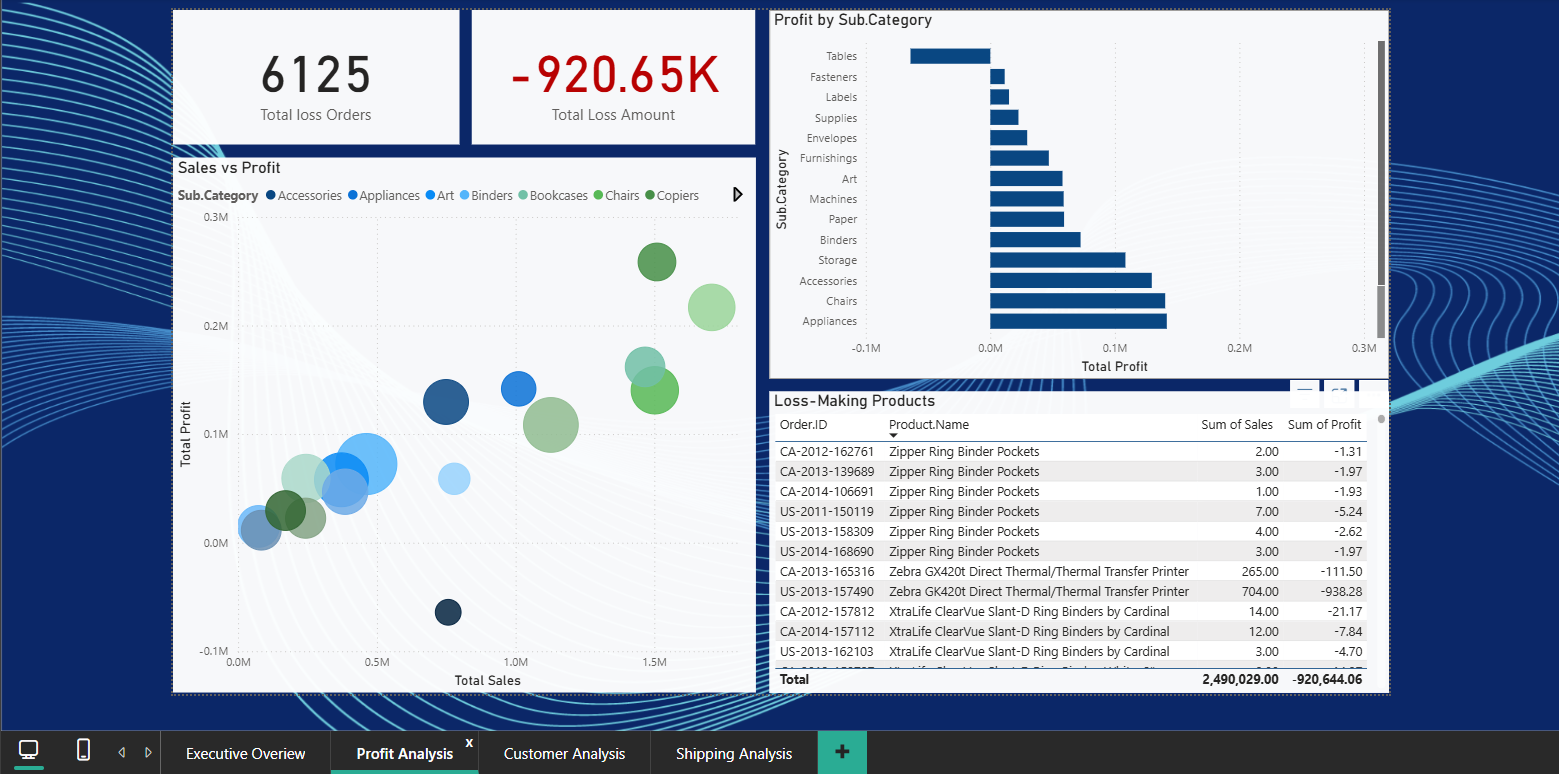

The page's visual inventory and layout, read from the dashboard file:
{"tool":"powerbi","page":{"name":"Profit Analysis","canvas":[1280,720],"ordinal":1},"visuals":[{"type":"barChart","title":" Profit by Sub.Category","fields":{"Category":["superstore.Sub.Category"],"Y":["DateTable.Total Profit"]},"box":[627.3,0,653.2,388.3],"z":0},{"type":"scatterChart","title":"Sales vs Profit","fields":{"X":["DateTable.Total Sales"],"Y":["DateTable.Total Profit"],"Size":["Sum(superstore.Quantity)"],"Series":["superstore.Sub.Category"]},"box":[0,155.4,613.5,563.5],"z":1000},{"type":"tableEx","title":"Loss-Making Products","fields":{"Values":["superstore.Order.ID","superstore.Product.Name","Sum(superstore.Sales)","Sum(superstore.Profit)"]},"box":[627,401.4,654.1,317.6],"z":2000},{"type":"card","fields":{"Values":["DateTable.Total loss Orders"]},"box":[0,0,301.4,141.9],"z":3000},{"type":"card","fields":{"Values":["DateTable.Total Loss Amount"]},"box":[314.9,0,298.6,141.9],"z":4000}]}

Visuals, with their boxes on the page's 1280x720 design canvas (x1, y1, x2, y2). These are canvas units, not pixel positions in the 1559x774 screenshot, which may show the page scaled, cropped or inside an application window:
" Profit by Sub.Category" barChart: {"left": 627, "top": 0, "right": 1280, "bottom": 388}
"Sales vs Profit" scatterChart: {"left": 0, "top": 155, "right": 614, "bottom": 719}
"Loss-Making Products" tableEx: {"left": 627, "top": 401, "right": 1281, "bottom": 719}
card - DateTable.Total loss Orders: {"left": 0, "top": 0, "right": 301, "bottom": 142}
card - DateTable.Total Loss Amount: {"left": 315, "top": 0, "right": 614, "bottom": 142}
